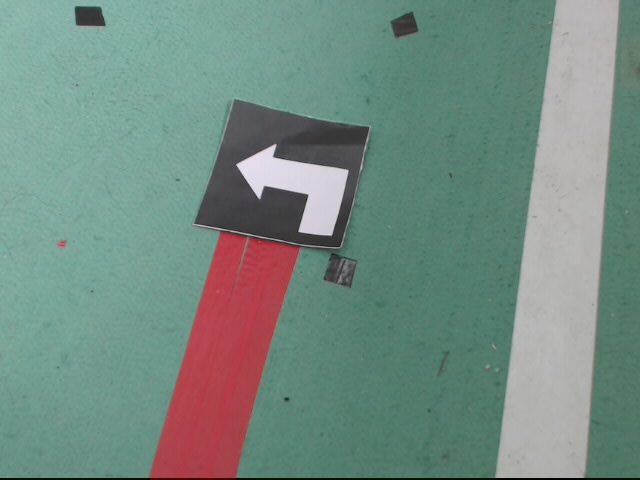left: (192, 101, 369, 250)
